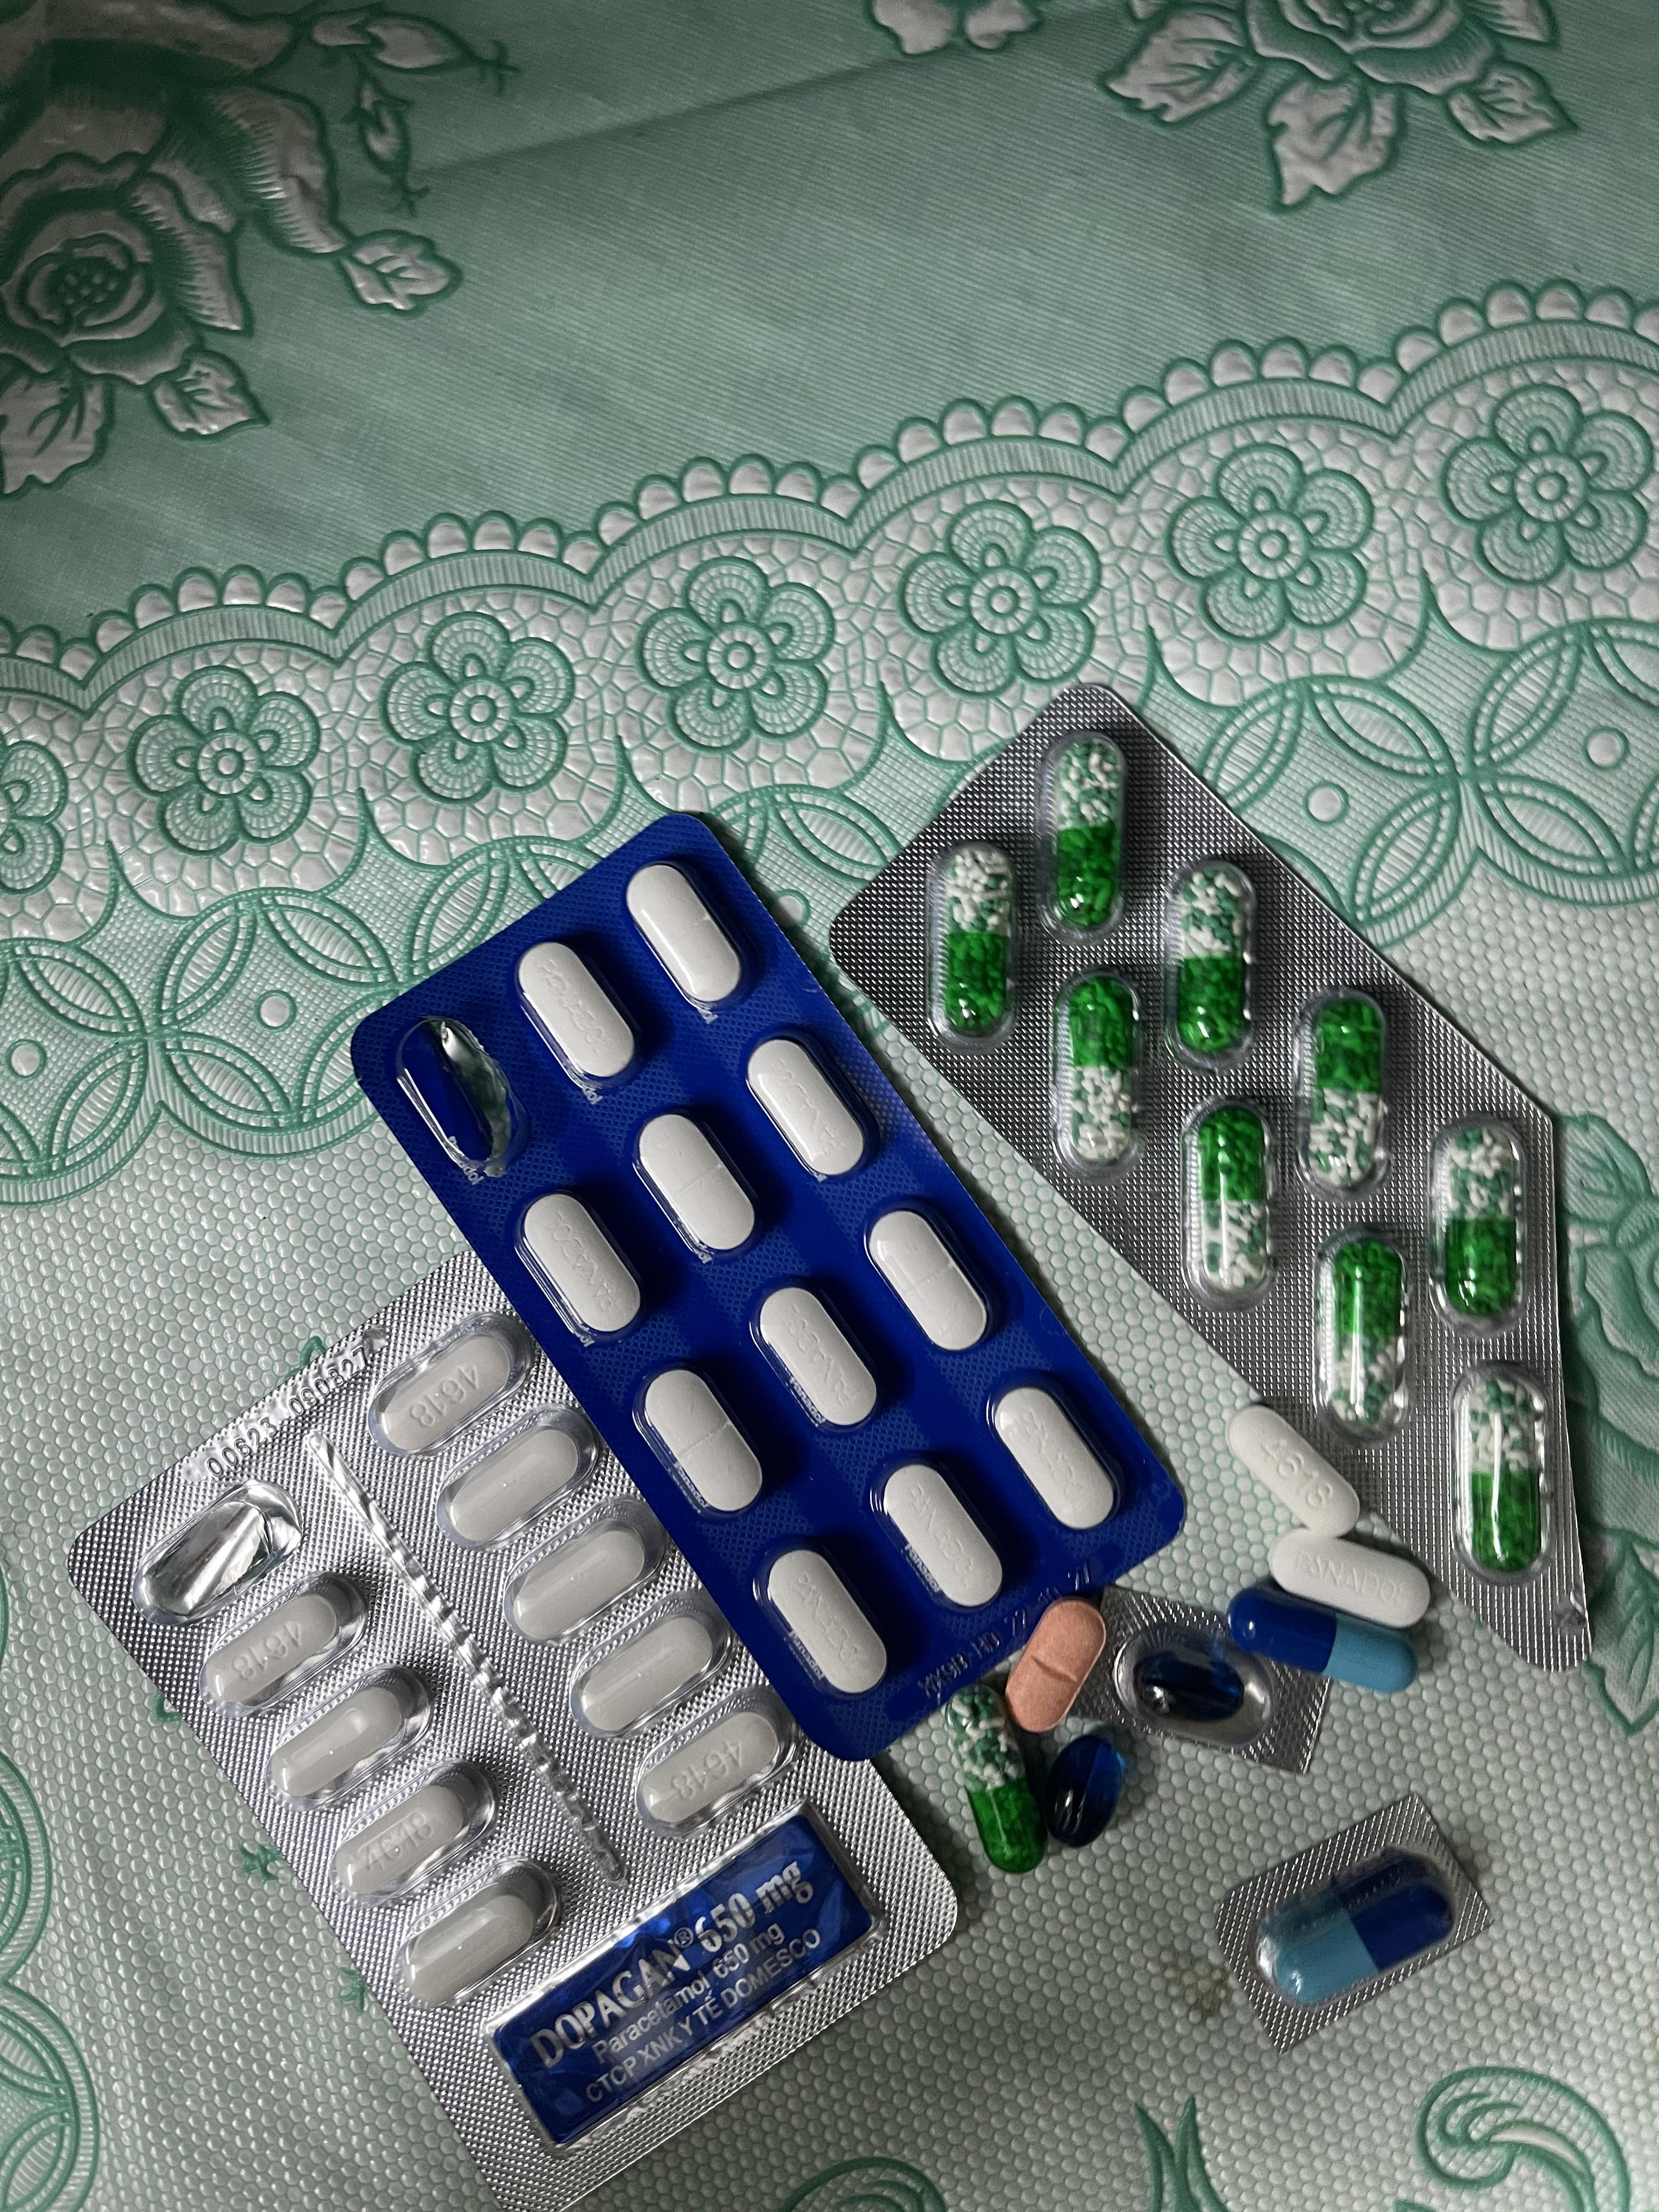Lincomyxin_500mg: (1044, 1735, 1126, 1848), (1138, 1649, 1243, 1723)
Loratadine_10mg: (1006, 1599, 1101, 1731)
Paracetamol_350mg: (988, 1379, 1119, 1529), (518, 941, 645, 1094), (877, 1460, 1004, 1608), (760, 1548, 887, 1695), (519, 1191, 647, 1338), (638, 1371, 765, 1515), (755, 1284, 880, 1430), (626, 860, 748, 1010), (868, 1209, 992, 1352), (749, 1038, 871, 1181), (638, 1113, 755, 1252), (1269, 1529, 1431, 1625)
Paracetamol_500mg: (434, 1402, 606, 1555), (199, 1566, 371, 1717), (322, 1759, 495, 1909), (261, 1663, 430, 1813), (568, 1590, 734, 1740), (631, 1688, 791, 1838), (366, 1318, 532, 1463), (498, 1501, 666, 1644), (403, 1869, 558, 2010), (1223, 1404, 1358, 1536)
Paracetamol_650mg: (1425, 1118, 1527, 1322), (1314, 1226, 1410, 1433), (943, 1683, 1044, 1871), (1297, 1001, 1391, 1197), (1053, 972, 1143, 1165), (927, 845, 1014, 1045), (1182, 1099, 1270, 1289), (1466, 1381, 1542, 1571), (1176, 871, 1249, 1055), (1051, 744, 1122, 932)
pill: (1255, 1850, 1455, 2006), (1230, 1583, 1415, 1693)
